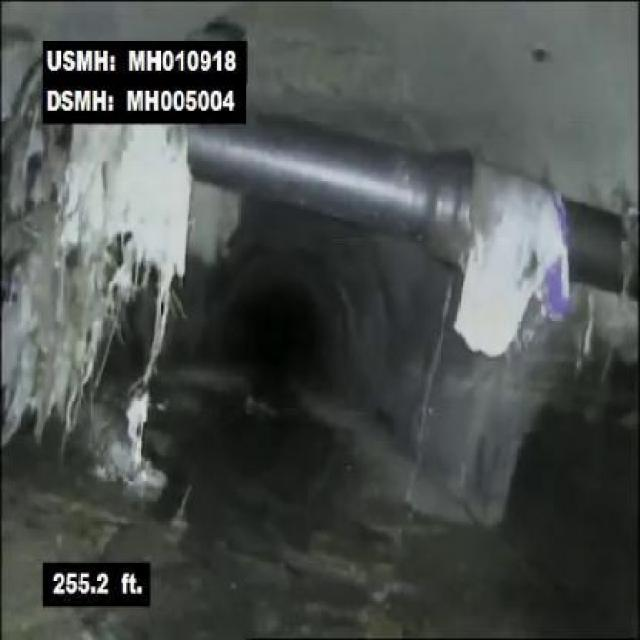Utility intrusion: (182, 124, 638, 298)
